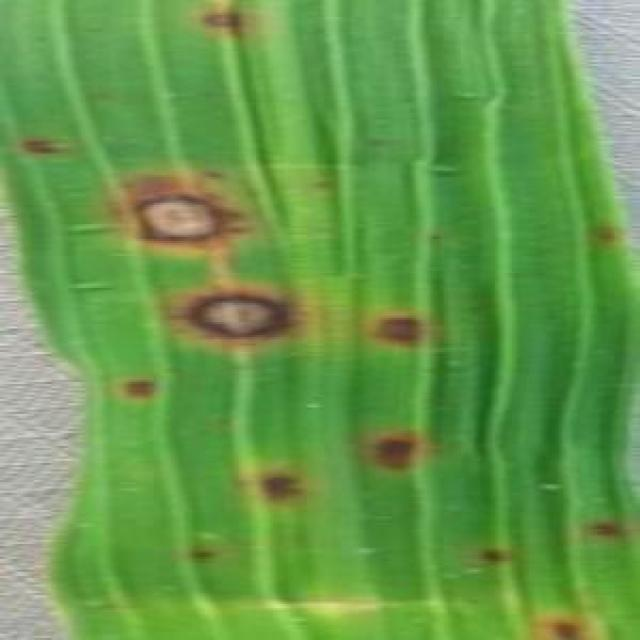Brown_Spot: (145, 262, 316, 372), (100, 160, 262, 258), (352, 418, 435, 480), (360, 294, 431, 360), (248, 463, 310, 508), (190, 2, 256, 41), (531, 606, 602, 638), (115, 362, 162, 408), (15, 128, 75, 160), (469, 538, 516, 568), (578, 510, 625, 540), (584, 214, 623, 248), (363, 126, 403, 153), (175, 540, 215, 565), (194, 160, 233, 183), (303, 169, 337, 194), (427, 226, 448, 245)
